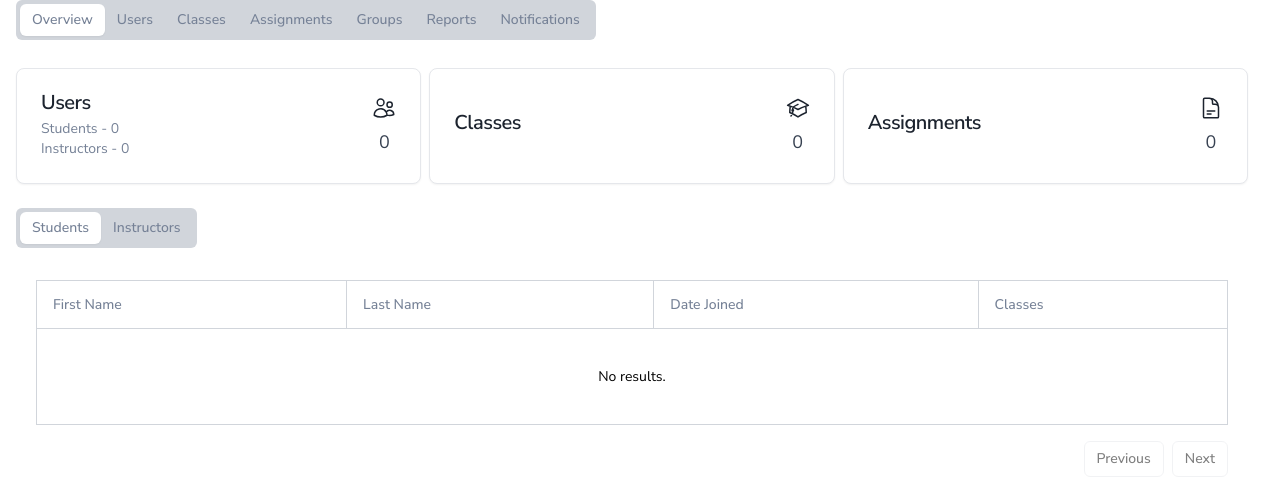
it: AdminDashboard Component › renders Groups tab content when Groups tab is clicked
What coordinates should you click on to do the following:
click the tab "Groups"
I would click on:
 (380, 20)
Its box is [344,4,414,36].
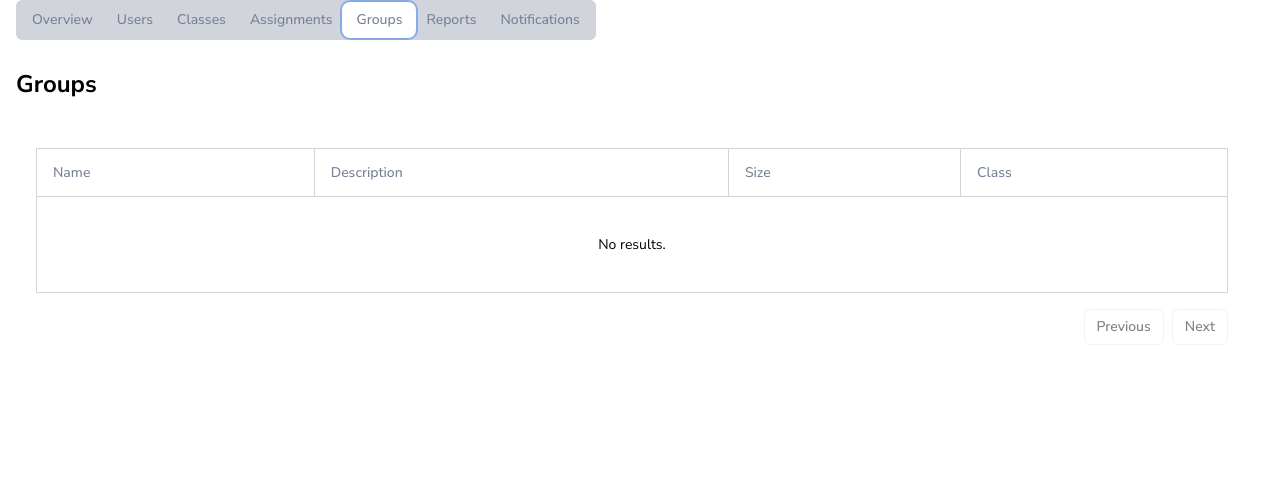
Check: the column heading "Description" is shown, box [314,148,728,196]
